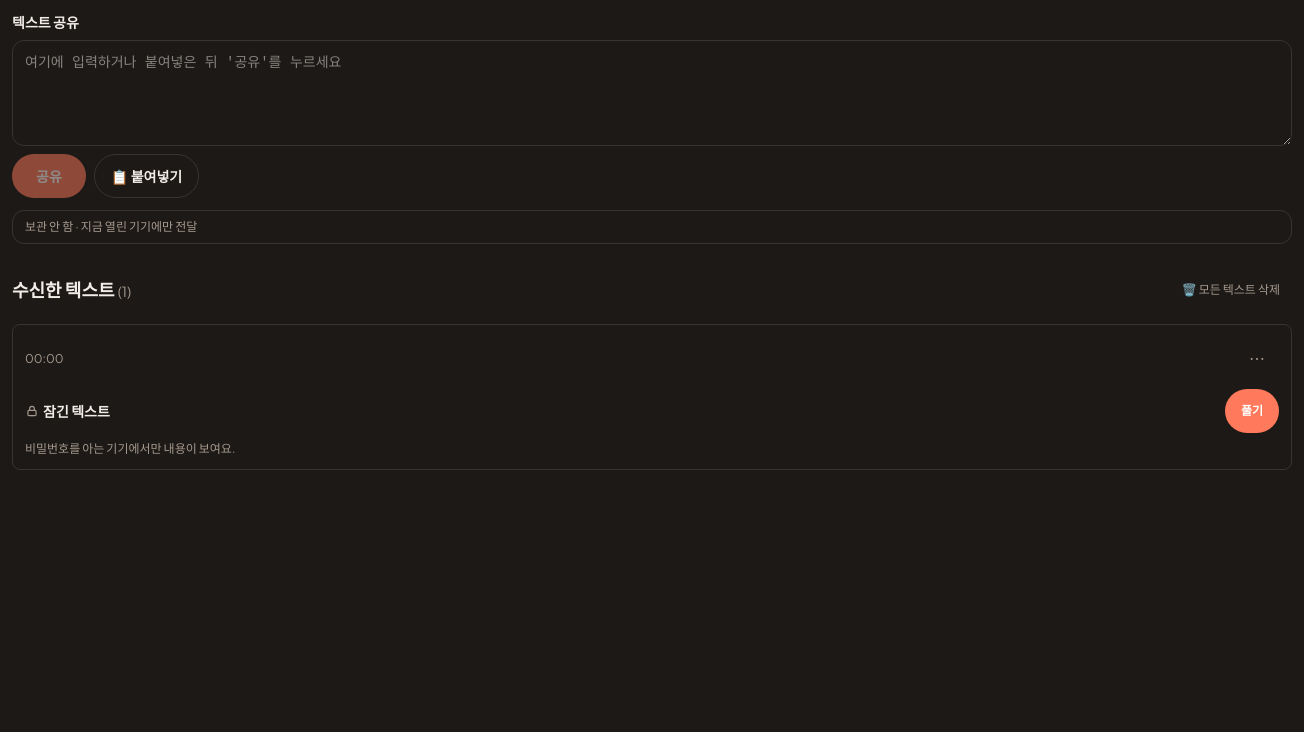
it: TextShareBox 보관 중·잠긴 텍스트 카드 › 잠긴 텍스트는 내용·복사 없이 "잠긴 텍스트"로만 보이고, 비밀번호로 풀기를 요청한다
Expected: the element with test id "text-locked" shows "잠긴 텍스트", [43,402,110,420]
Step 1. Click the button with test id "text-unlock-open" → (1252, 411), box [1225,389,1279,433]
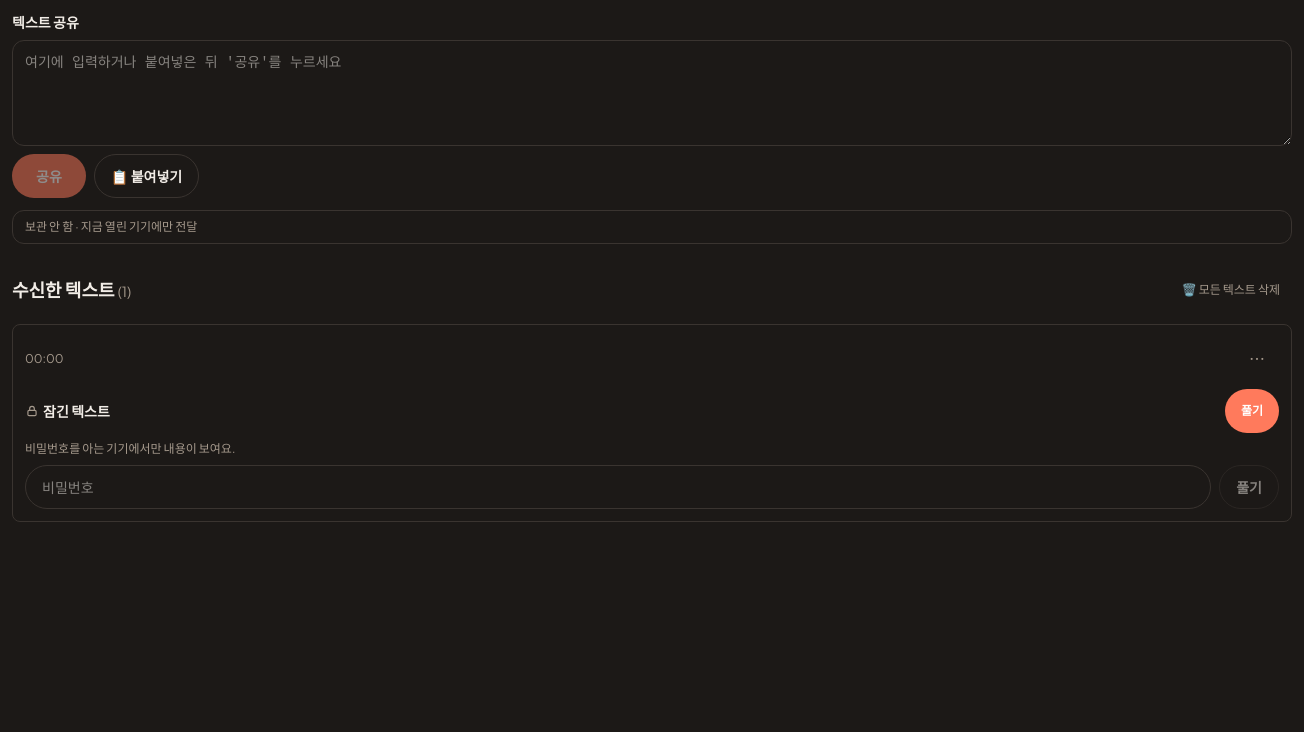
Step 2. Type "wrong" into the password field with test id "text-unlock-password" → (618, 487), box [25,465,1211,509]
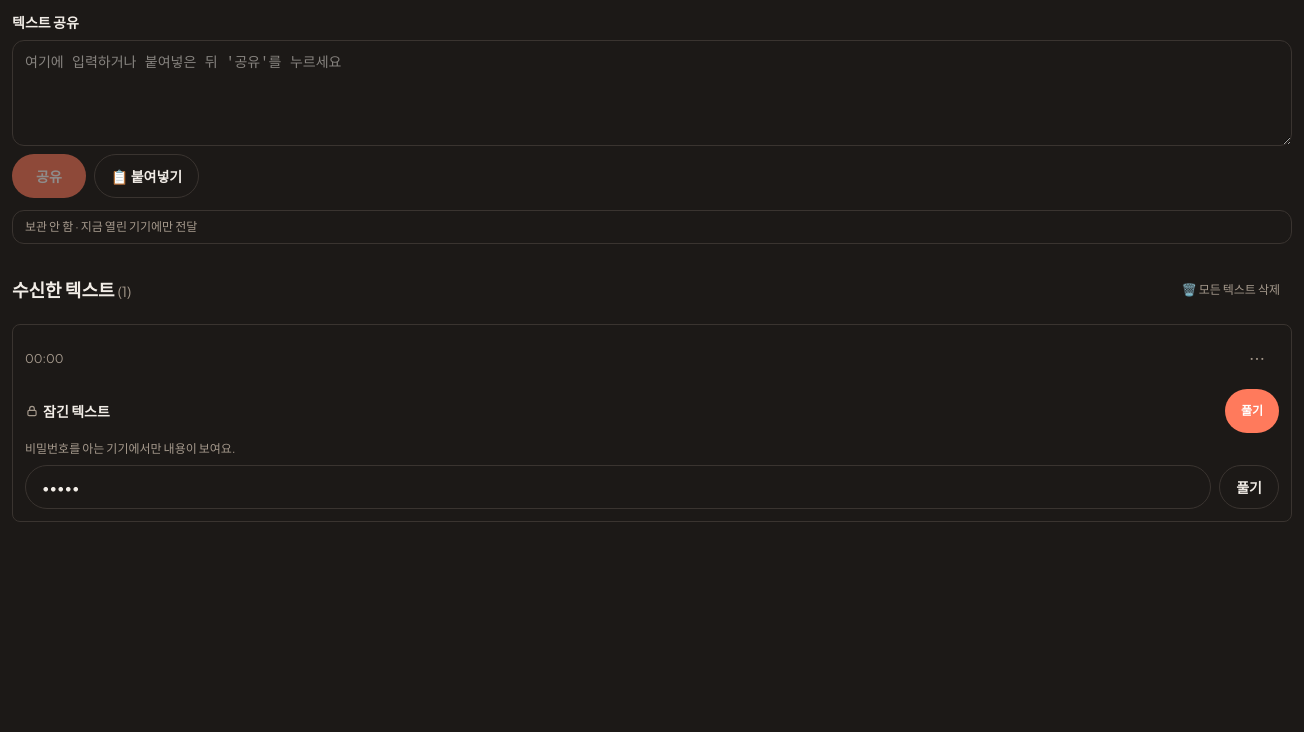
Step 3. Submit the form with test id "text-unlock-form", box [25,465,1279,509]
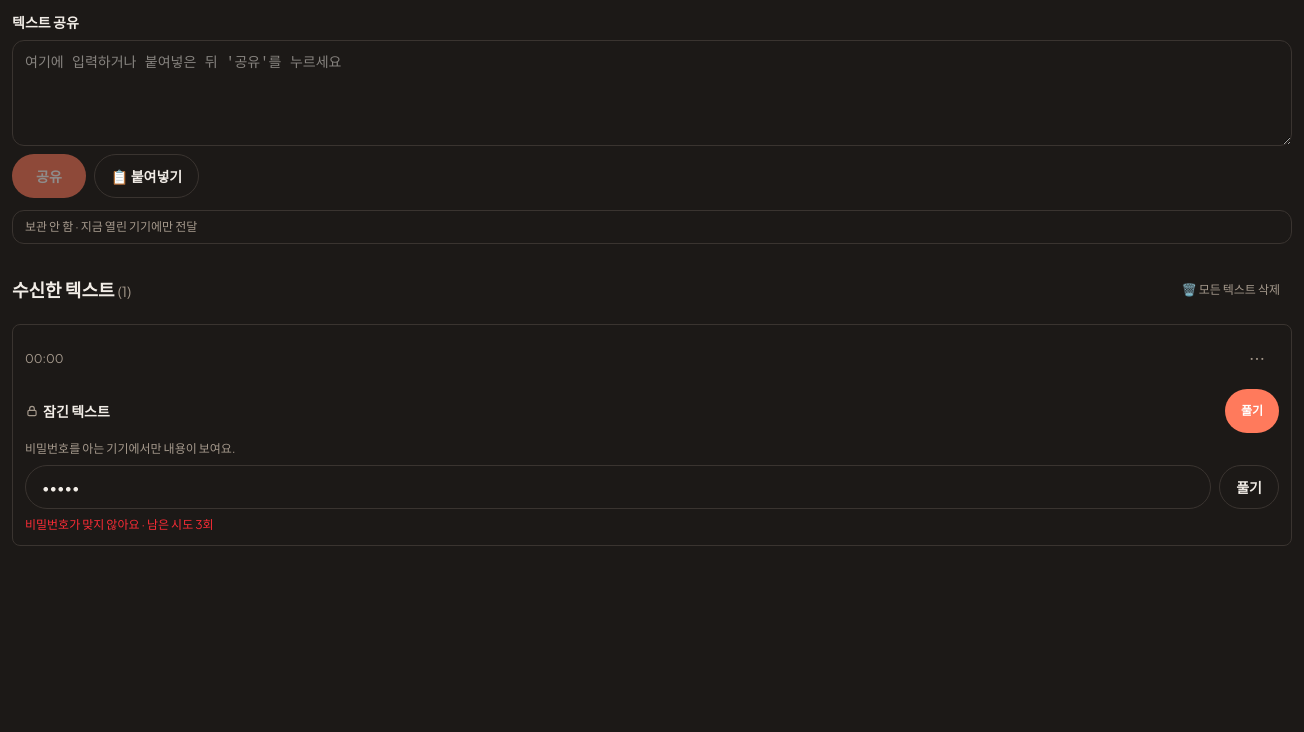
Expected: the message with test id "text-unlock-message" reads "비밀번호가 맞지 않아요 · 남은 시도 3회", [25,517,214,532]
Step 4. Submit the form with test id "text-unlock-form", box [25,465,1279,509]
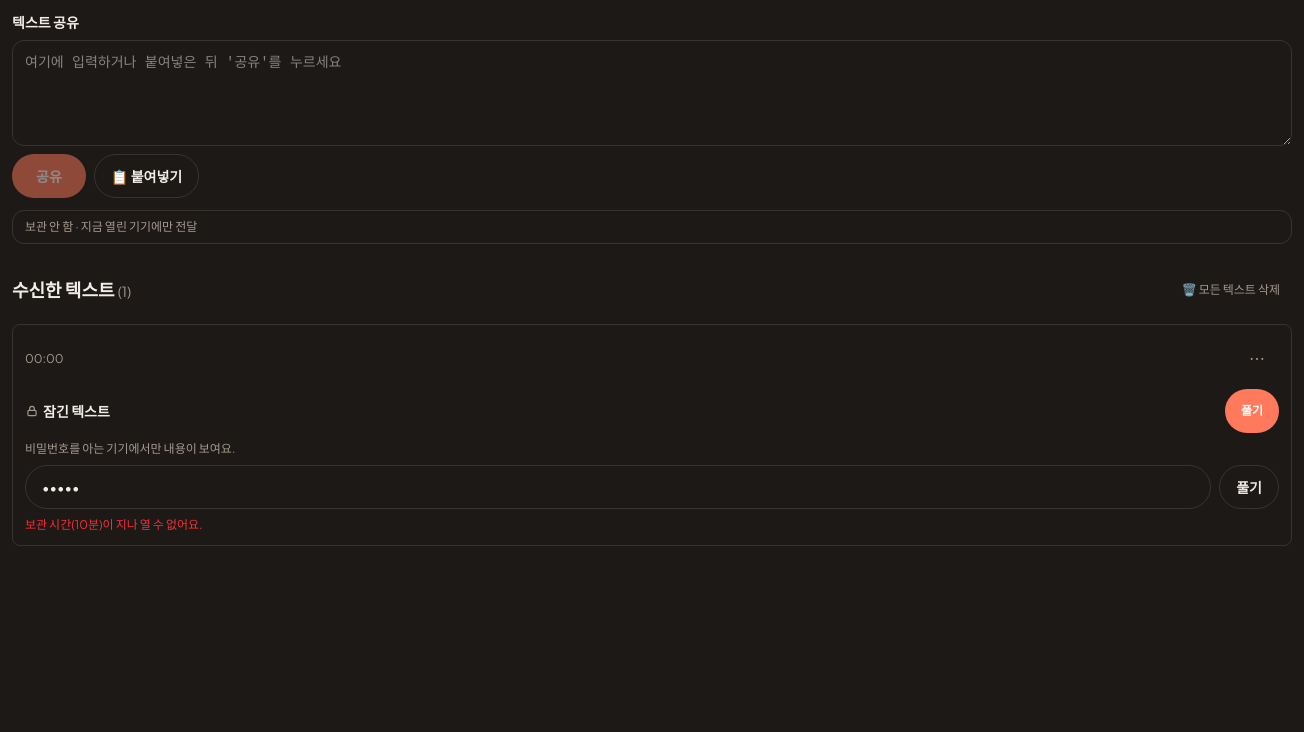
Expected: the message with test id "text-unlock-message" reads "보관 시간(10분)이 지나 열 수 없어요.", [25,517,202,532]
